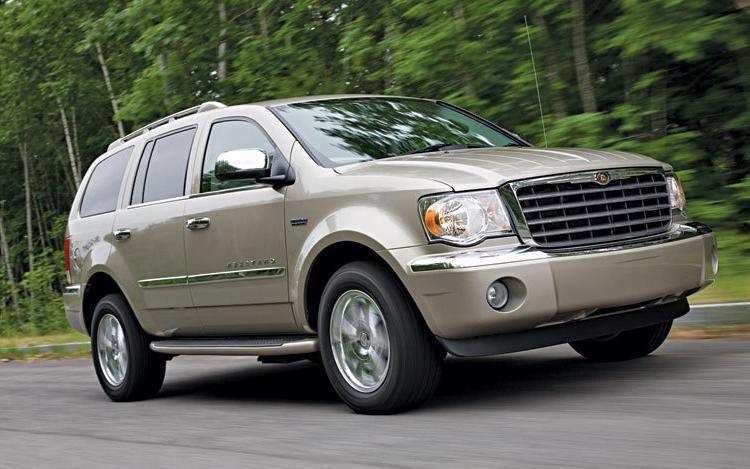Car: (55, 59, 729, 425)
